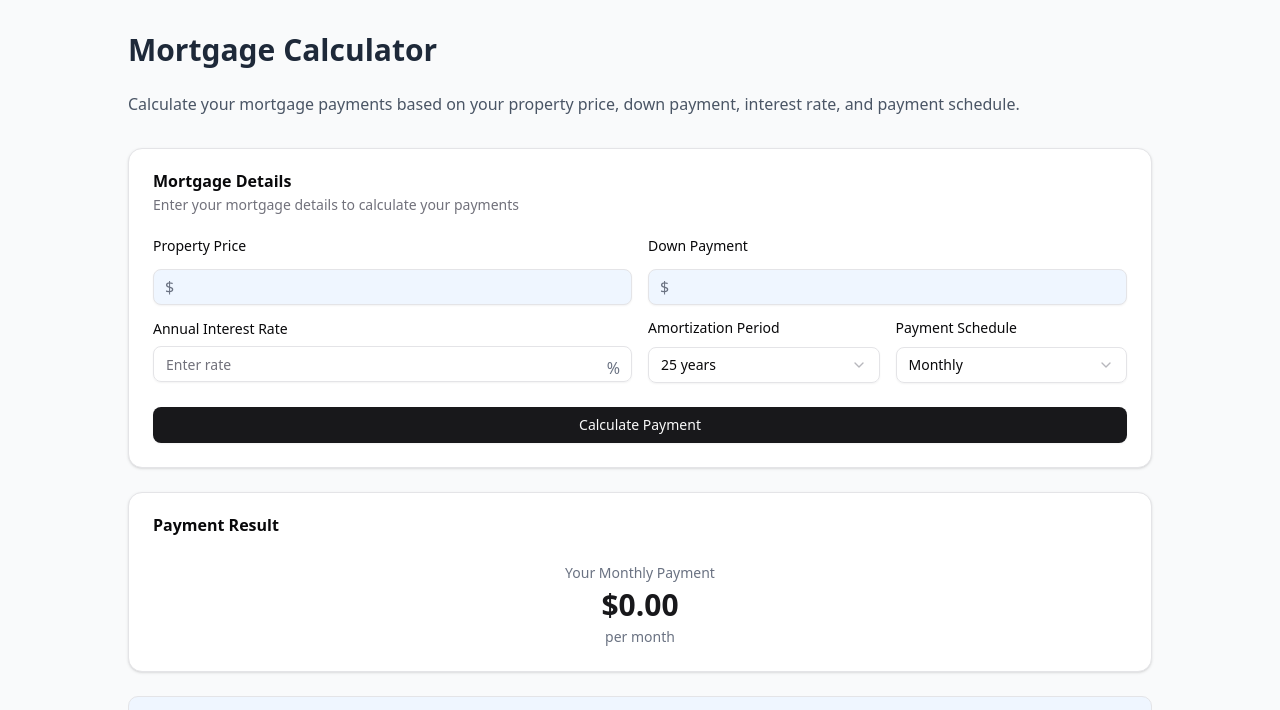
Test case: Form Input Components › should validate numeric inputs
The image size is (1280, 710).
Type "abc123!@#" into the field labelled "Property Price". click: (393, 287)
box: x1=153 y1=269 x2=632 y2=305
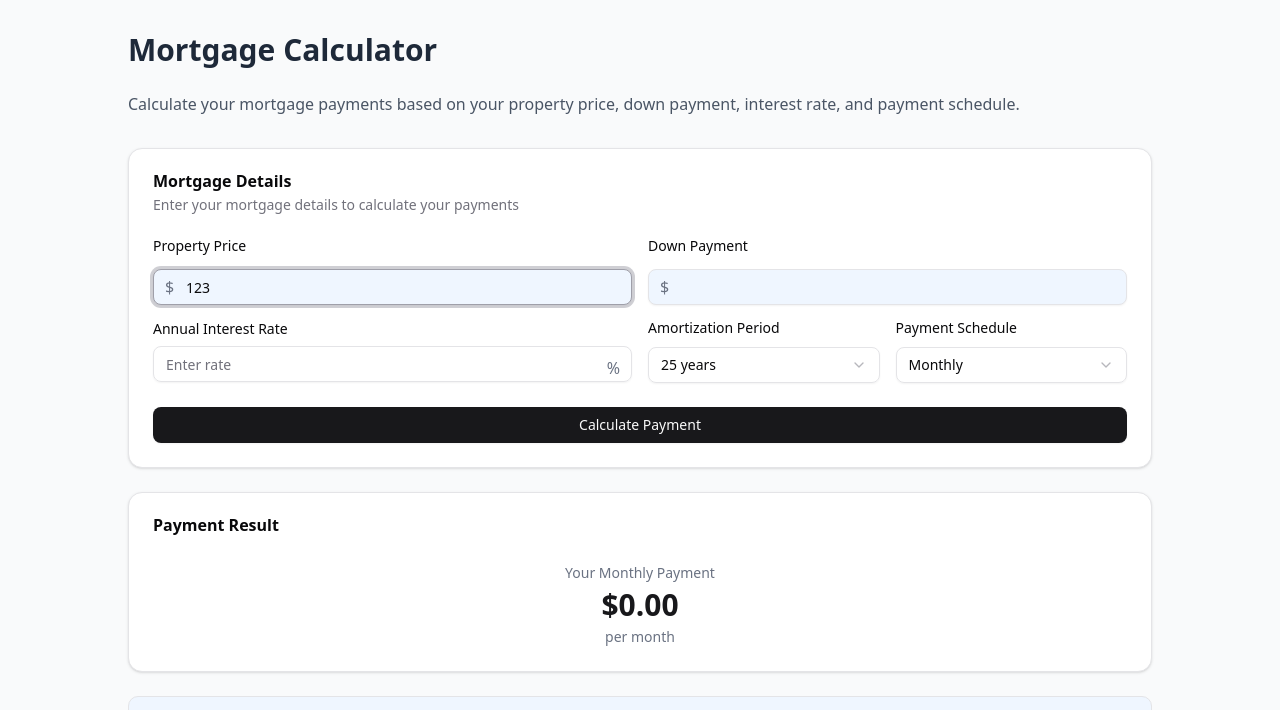
Check: the field labelled "Property Price" holds "123", box x1=153 y1=269 x2=632 y2=305
Type "abc123!@#" into the field with id "downPayment". click: (888, 287)
box: x1=648 y1=269 x2=1127 y2=305
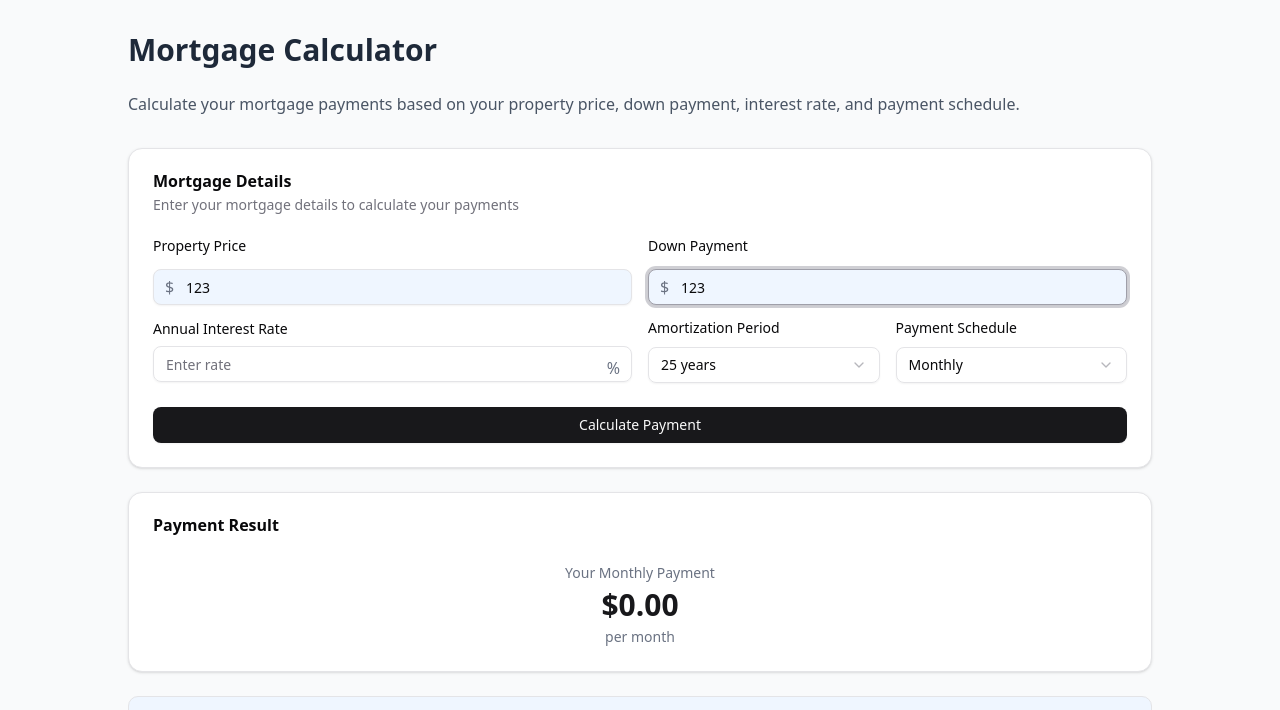
Check: the field with id "downPayment" holds "123", box x1=648 y1=269 x2=1127 y2=305
Type "abc12.5!@#" into the field with placeholder "Enter rate". click: (393, 364)
box: x1=153 y1=346 x2=632 y2=382
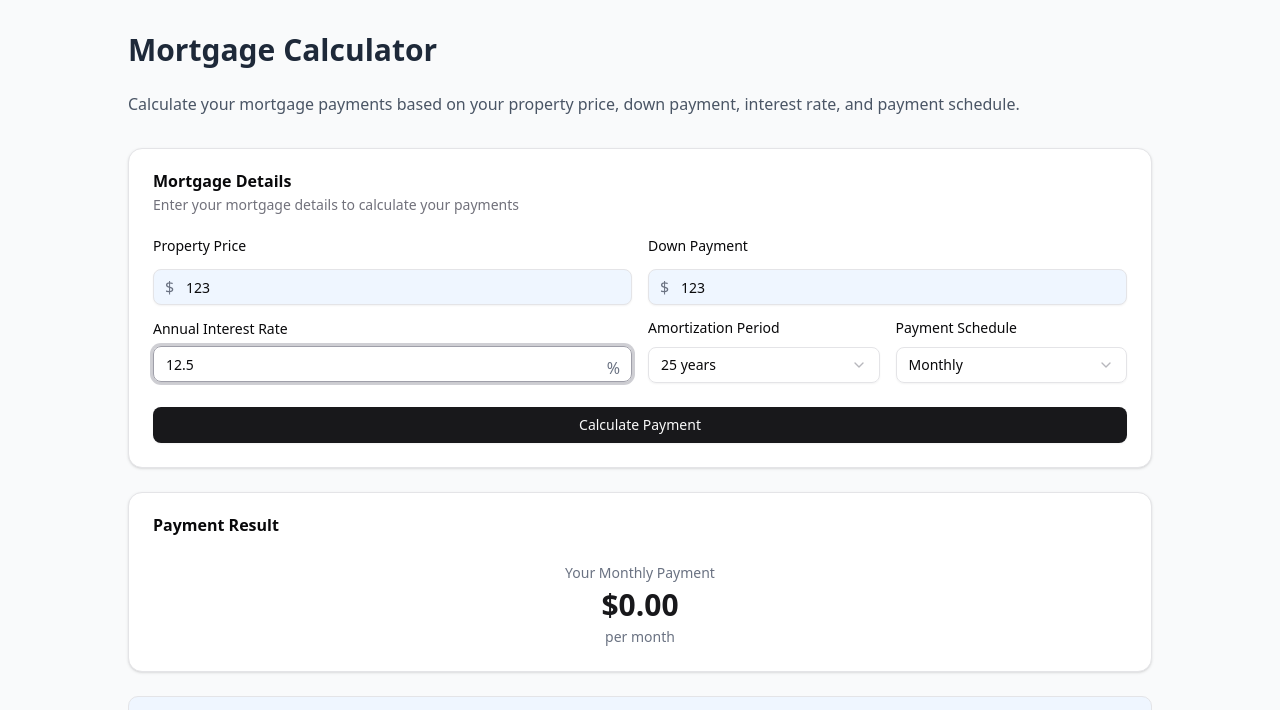
Check: the field with placeholder "Enter rate" holds "12.5", box x1=153 y1=346 x2=632 y2=382
